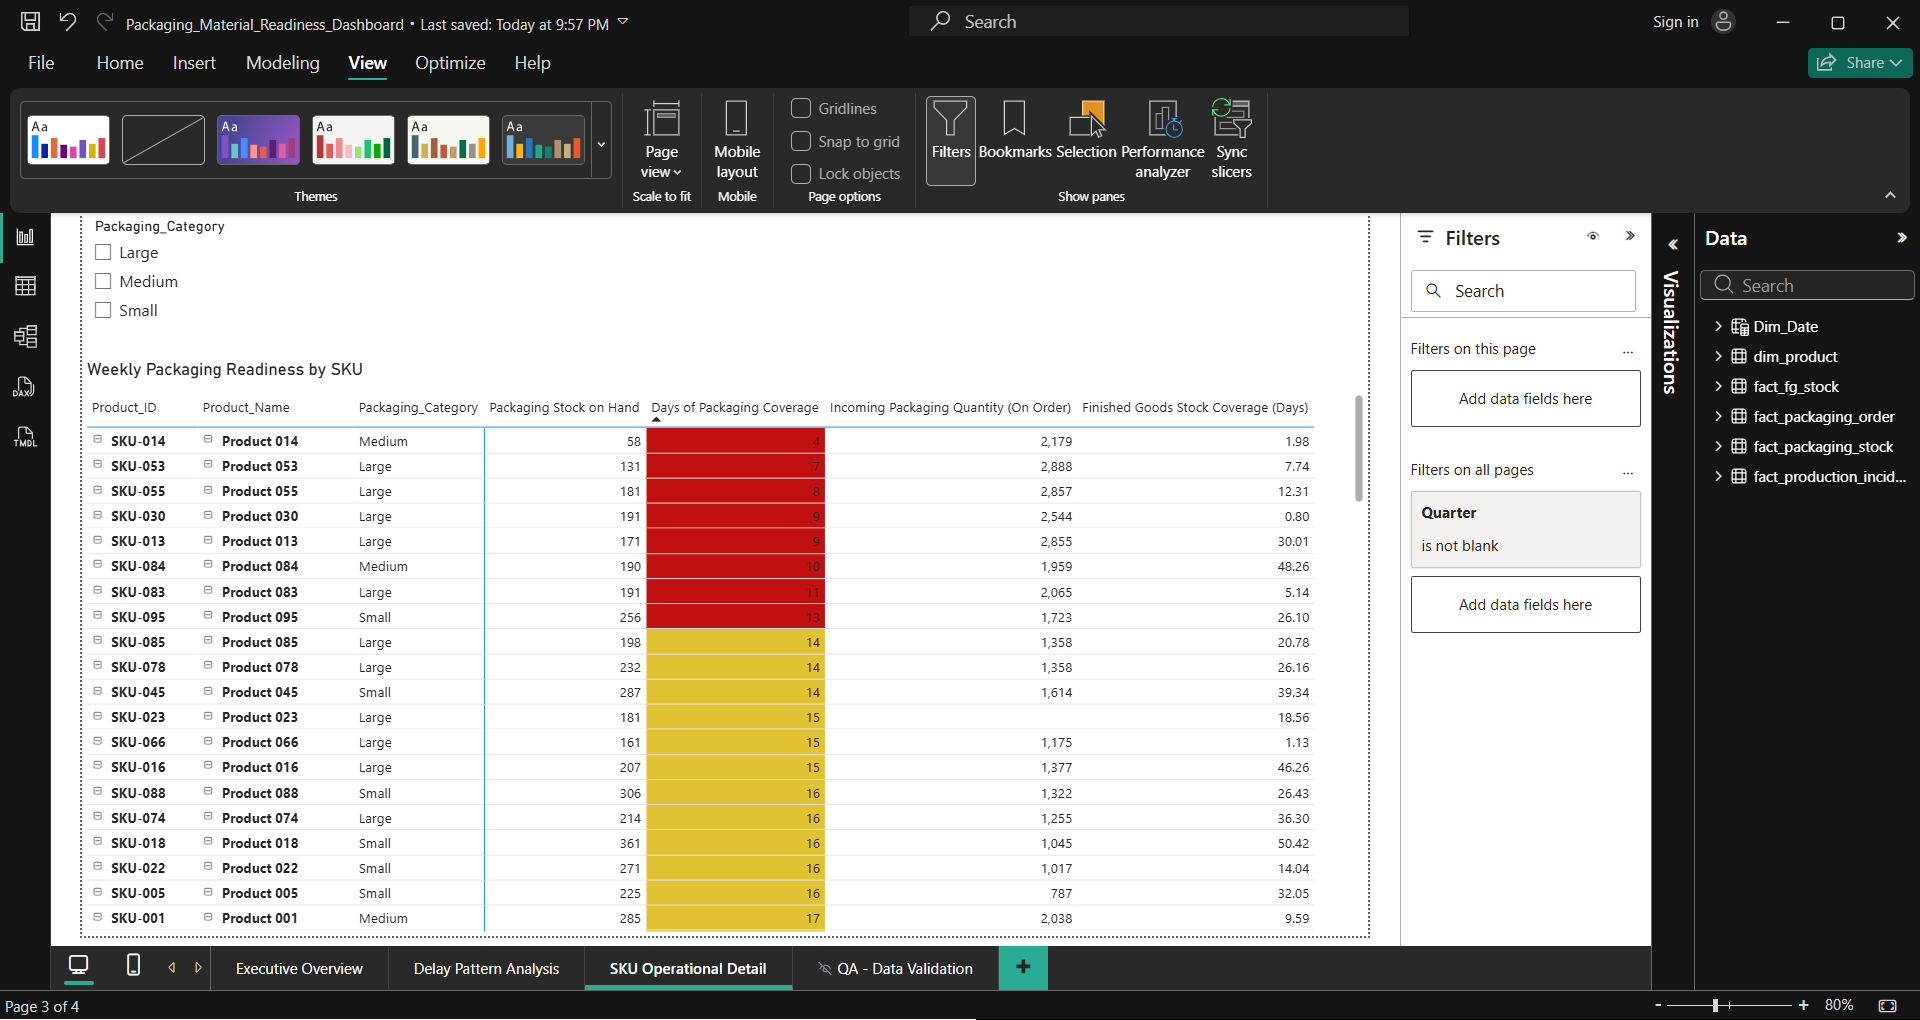

What the dashboard file says about the page in this screenshot:
{"tool":"powerbi","page":{"name":"SKU Operational Detail","canvas":[1280,720],"ordinal":2},"visuals":[{"type":"pivotTable","title":"Weekly Packaging Readiness by SKU","fields":{"Rows":["dim_product.Product_ID","dim_product.Product_Name","dim_product.Packaging_Category"],"Values":["fact_packaging_stock.Packaging Stock on Hand","fact_packaging_stock.Days of Packaging Coverage","fact_packaging_order.Incoming Packaging Quantity (On Order)","fact_fg_stock.Finished Goods Stock Coverage (Days)"]},"box":[0,145.5,1280,574.7],"z":0},{"type":"slicer","fields":{"Values":["dim_product.Packaging_Category"]},"box":[0,0,329.3,127.6],"z":1000}]}

Visuals, with their boxes on the page's 1280x720 design canvas (x1, y1, x2, y2). These are canvas units, not pixel positions in the 1920x1020 screenshot, which may show the page scaled, cropped or inside an application window:
"Weekly Packaging Readiness by SKU" pivotTable: box(0, 146, 1280, 720)
slicer - dim_product.Packaging_Category: box(0, 0, 329, 128)
